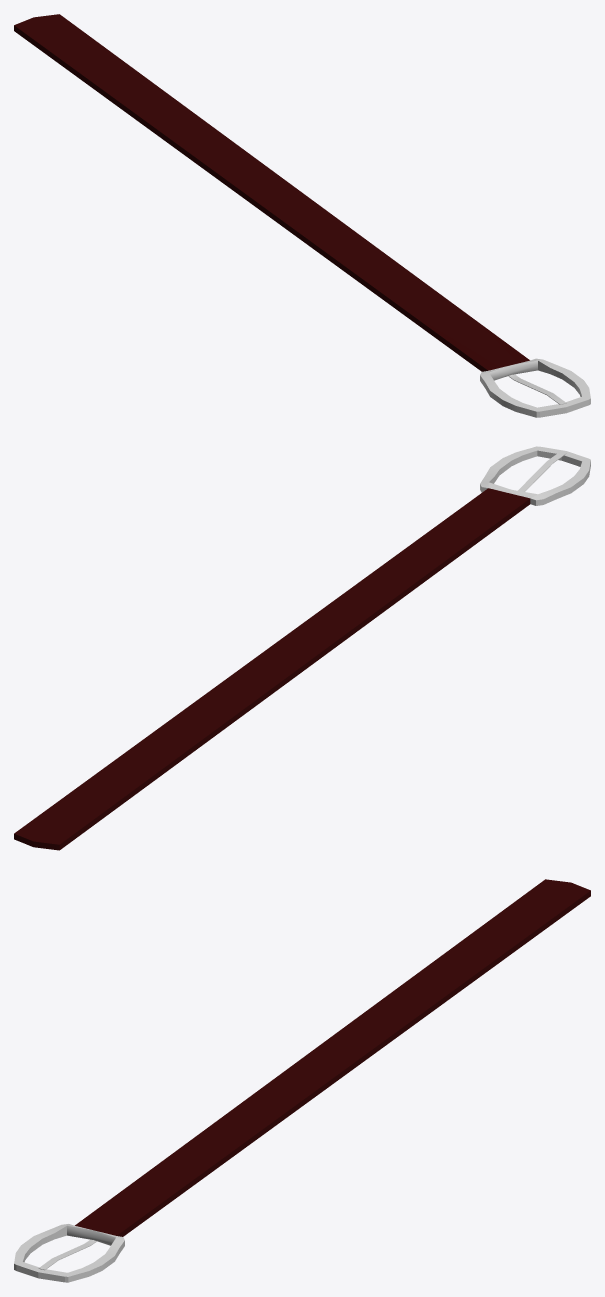
Rendered from CintoC.fbx.
3 renders of one model, top to bottom at view 1: azimuth 30°, elevation 25°; view 2: azimuth 150°, elevation 25°; view 3: azimuth 330°, elevation 25°, orthographic.
Parts seen in each view (by area): view 1: Cinto_C; view 2: Cinto_C; view 3: Cinto_C.
Part boxes in pixels (x1=…): Cinto_C: x1=14, y1=14, x2=590, y2=417; Cinto_C: x1=14, y1=446, x2=590, y2=850; Cinto_C: x1=14, y1=879, x2=590, y2=1282.
Bounding box in the file's own units: 6.75 × 0.8419 × 76.73.
